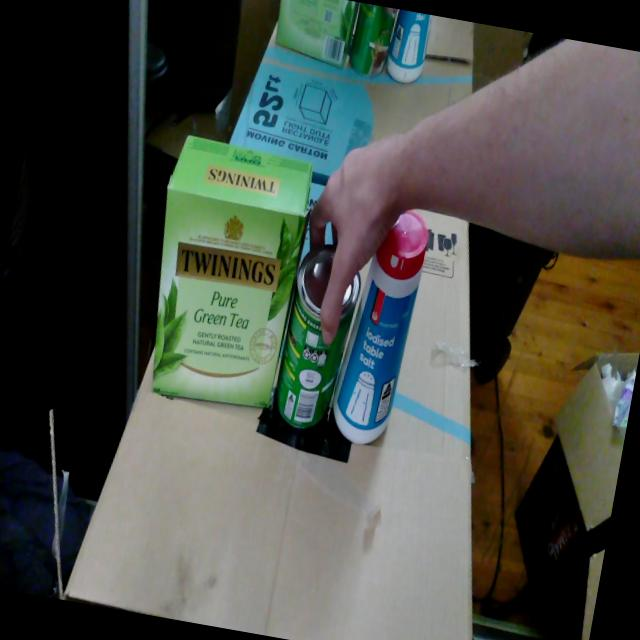nestle_milo_tin: (274, 244, 360, 429)
twinings_greentea_box: (152, 135, 313, 407)
woolworths_salt_bottle: (333, 210, 428, 444)
